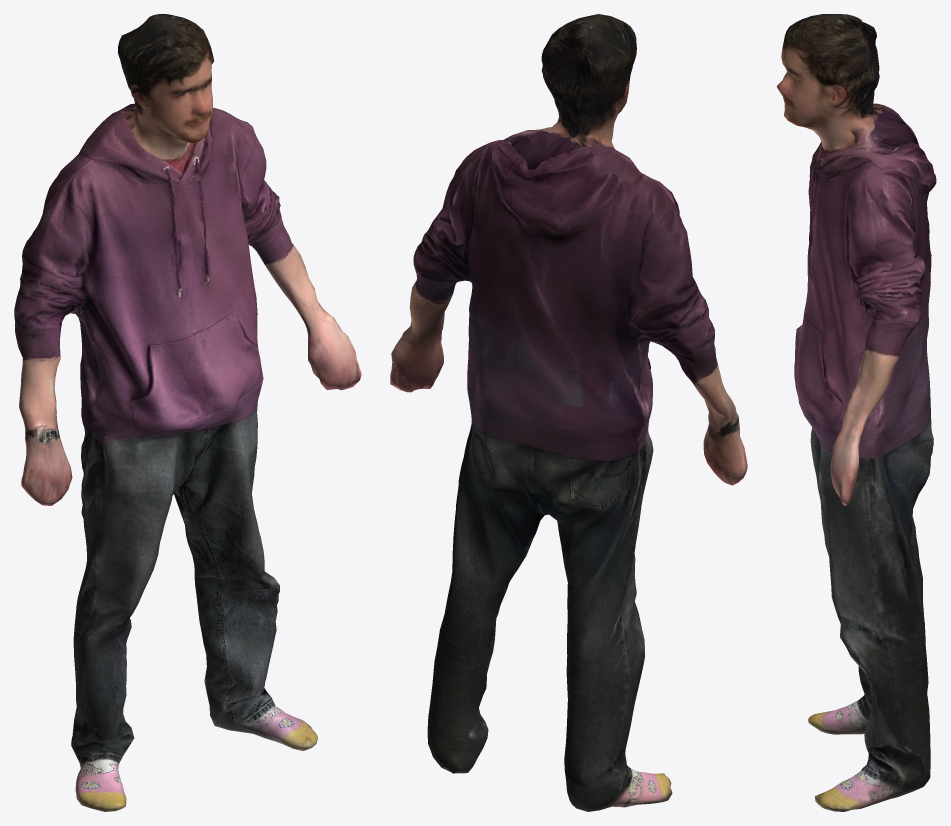
File: baietu.glb
3 views of the same model, side by side, from view 1: azimuth 30°, elevation 25°; view 2: azimuth 150°, elevation 25°; view 3: azimuth 270°, elevation 25° (orthographic). The views are drawn at different scales.
Visible parts, largest first — view 1: 3DModel; view 2: 3DModel; view 3: 3DModel.
Part boxes in pixels (x1,y1,x2,y2): 3DModel: (14, 14, 361, 811); 3DModel: (390, 14, 747, 811); 3DModel: (776, 14, 936, 811).
Size of the model in its own units: 0.6361 by 1.34 by 0.2622.
Materials: 1 (1 with a texture image).
